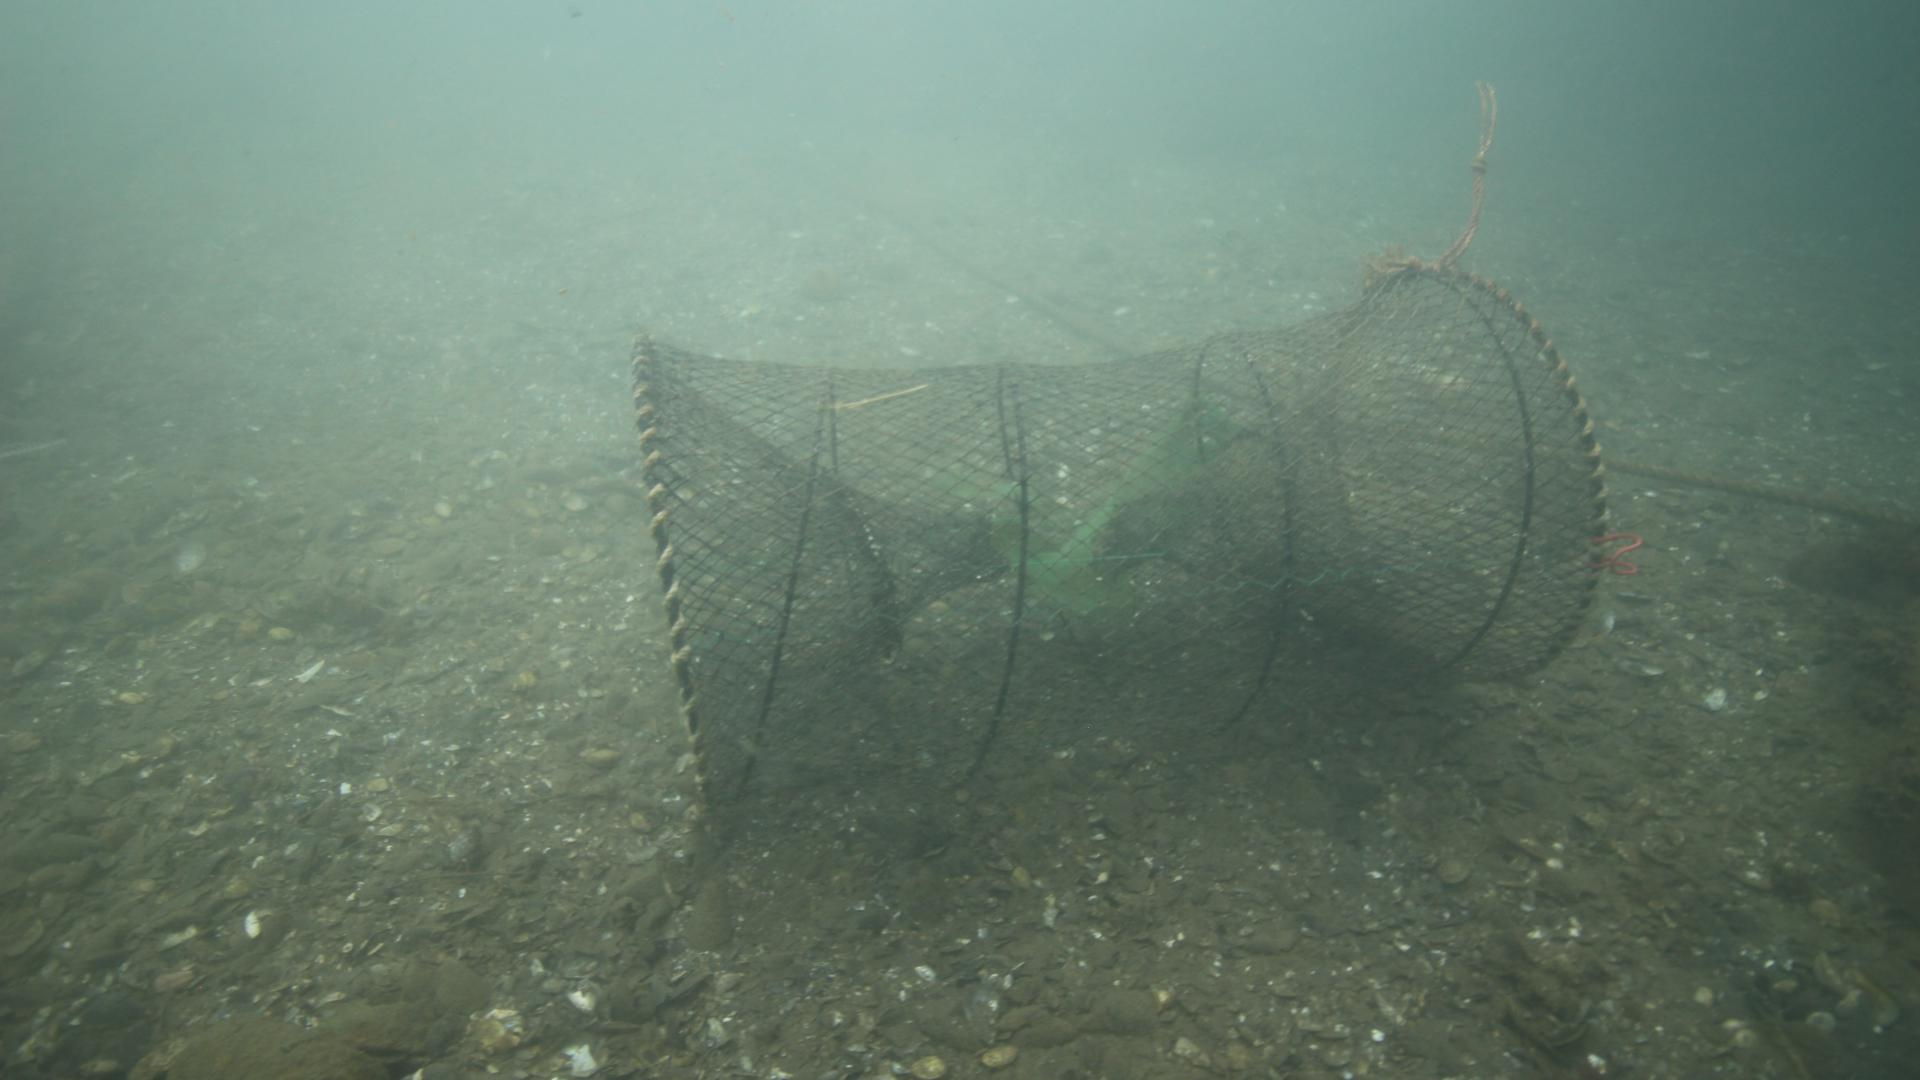bundle of ropes: (1433, 75, 1501, 264)
rope: (1600, 455, 1920, 530)
spring fish trap: (629, 258, 1611, 807)
